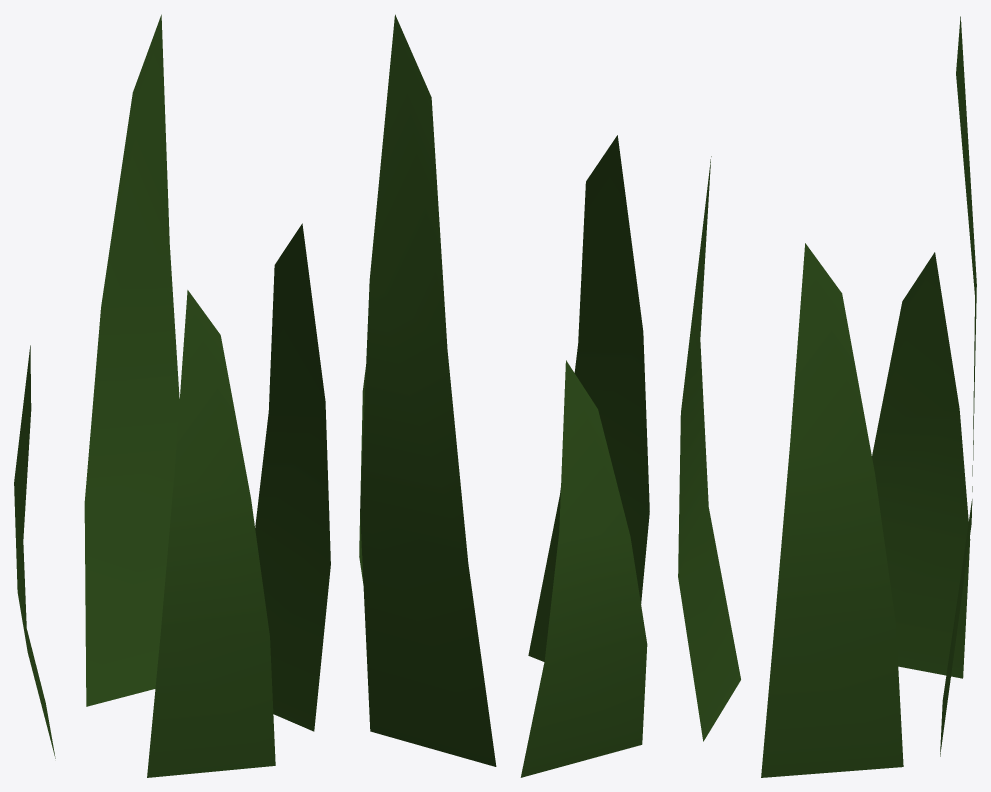
The model's file is cesped1.glb.
3 views of the same model, side by side, from view 1: azimuth 30°, elevation 25°; view 2: azimuth 150°, elevation 25°; view 3: azimuth 270°, elevation 25° (orthographic). The views are drawn at different scales.
Visible parts, largest first — view 1: cesped 1; view 2: cesped 1; view 3: cesped 1.
Part boxes in pixels (x1,y1,x2,y2): cesped 1: (14, 14, 330, 777); cesped 1: (359, 14, 649, 777); cesped 1: (678, 16, 976, 777).
Bounding box in the file's own units: 0.2579 × 0.617 × 0.2278.
